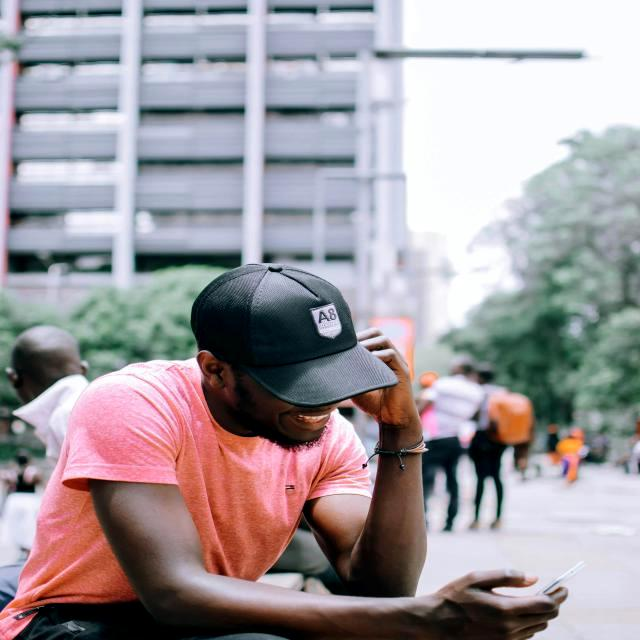no_hard_hat: (191, 265, 397, 407)
person: (14, 264, 567, 640)
